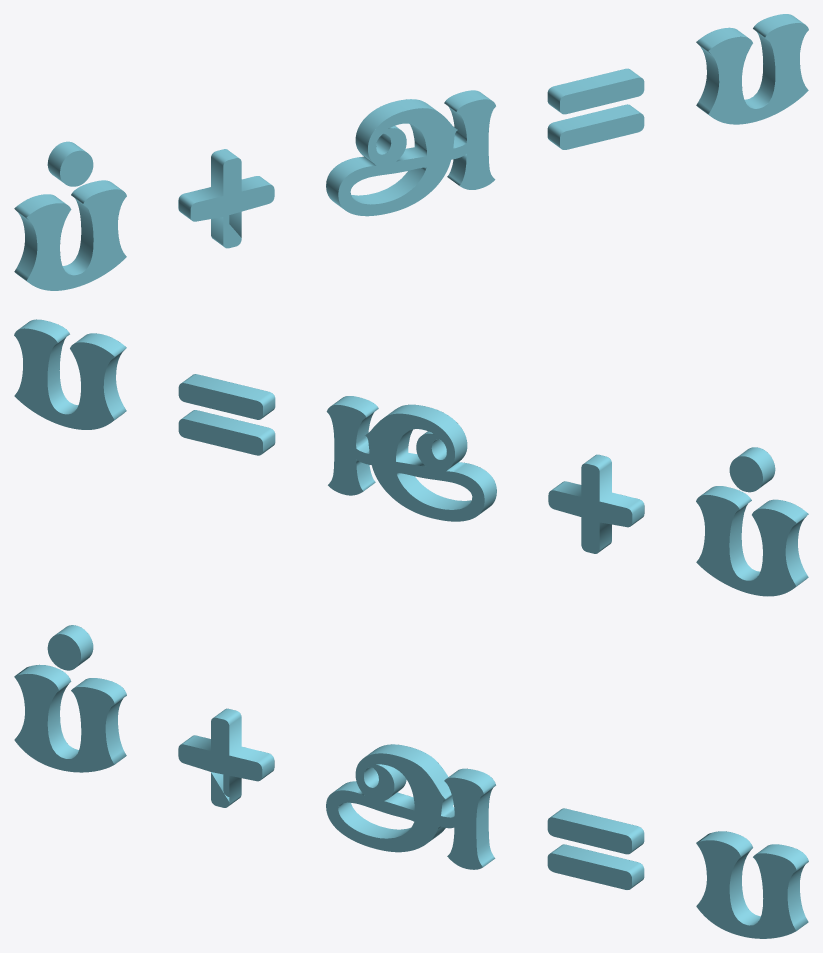
3 renders of one model, top to bottom at view 1: azimuth 30°, elevation 25°; view 2: azimuth 150°, elevation 25°; view 3: azimuth 330°, elevation 25°, orthographic.
Parts seen in each view (by area): view 1: pa; view 2: pa; view 3: pa.
Boxes of the visible parts, x1,y1,x2,y2 form: pa: [14, 14, 808, 290]; pa: [14, 319, 808, 596]; pa: [14, 625, 808, 938].
Bounding box in the file's own units: 0.1585 × 0.0268 × 0.00431.
